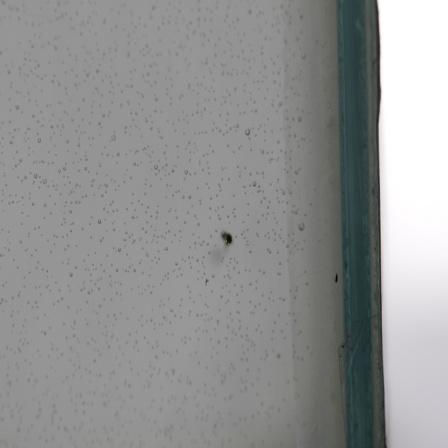Jentik-Nyamuk: (216, 227, 236, 251)
